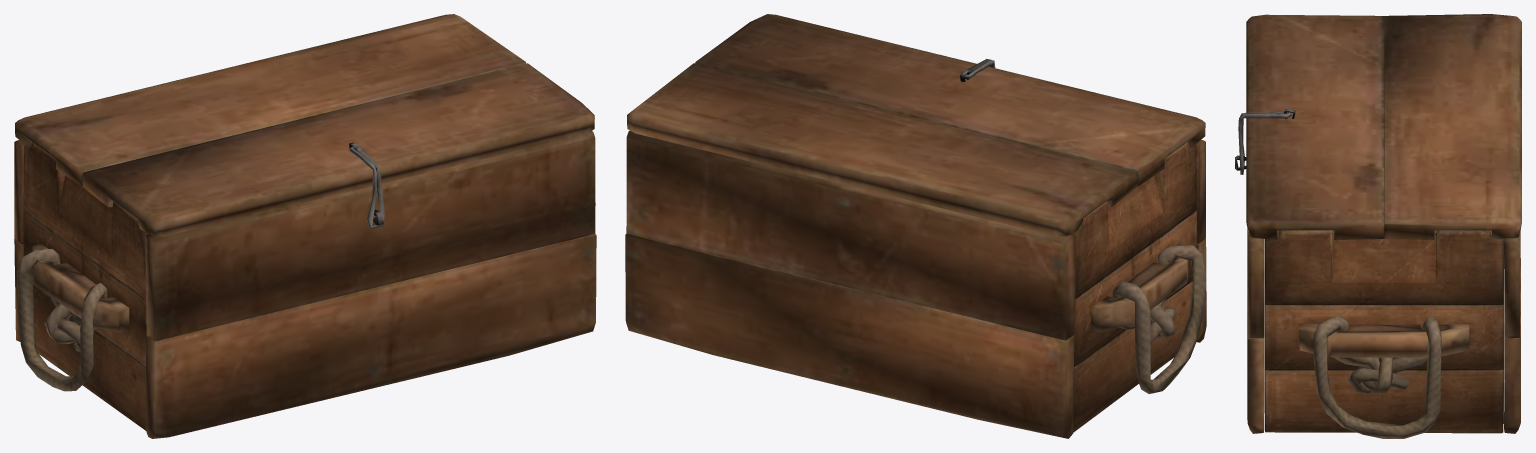
Rendered from wooden_crate_01.glb.
The picture shows the model from 3 angles, left to right: view 1: azimuth 30°, elevation 25°; view 2: azimuth 150°, elevation 25°; view 3: azimuth 270°, elevation 25°; orthographic projection. The views are drawn at different scales.
Parts seen in each view (by area): view 1: wooden_crate_01_lid; view 2: wooden_crate_01_lid; view 3: wooden_crate_01_lid.
Boxes of the visible parts, box(x1,y1,x2,y2) form: wooden_crate_01_lid: box(14, 14, 596, 438); wooden_crate_01_lid: box(625, 14, 1206, 438); wooden_crate_01_lid: box(1235, 14, 1521, 438).
Size of the model in its own units: 0.8245 by 0.3469 by 0.4069.
1 material, 1 textured.
